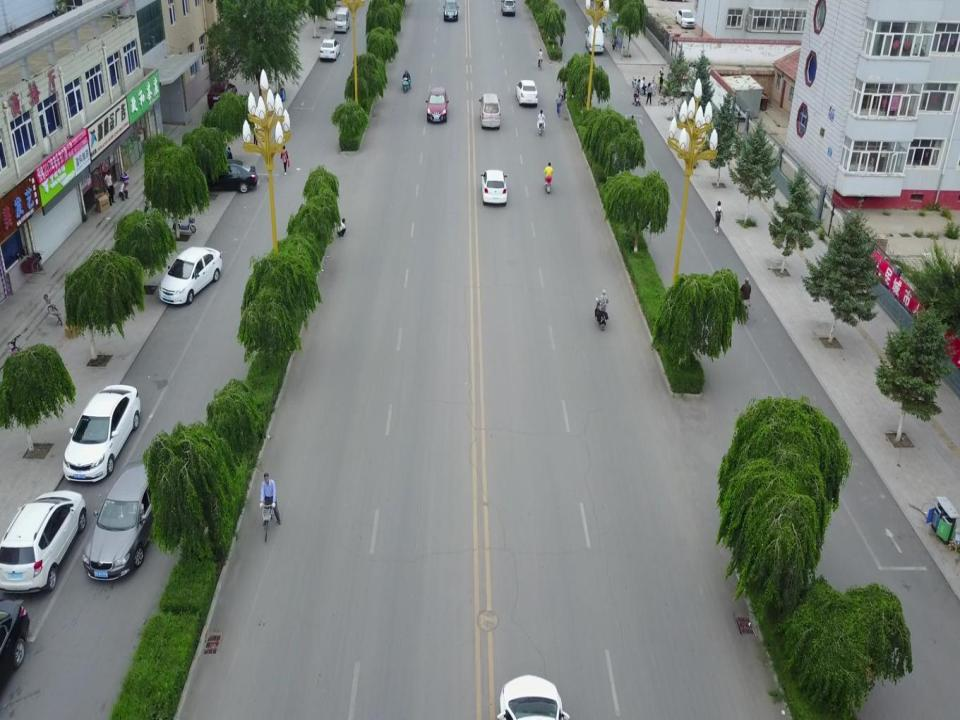car: (82, 457, 170, 581), (0, 489, 86, 594), (63, 384, 141, 482), (158, 247, 222, 305), (496, 674, 570, 720), (197, 158, 258, 194), (480, 170, 507, 206), (426, 81, 449, 122), (207, 81, 238, 109), (514, 79, 538, 107), (319, 38, 340, 61), (442, 0, 459, 23), (675, 10, 696, 28), (500, 0, 516, 17)
van: (478, 93, 500, 130), (584, 24, 604, 55), (333, 7, 350, 34)
